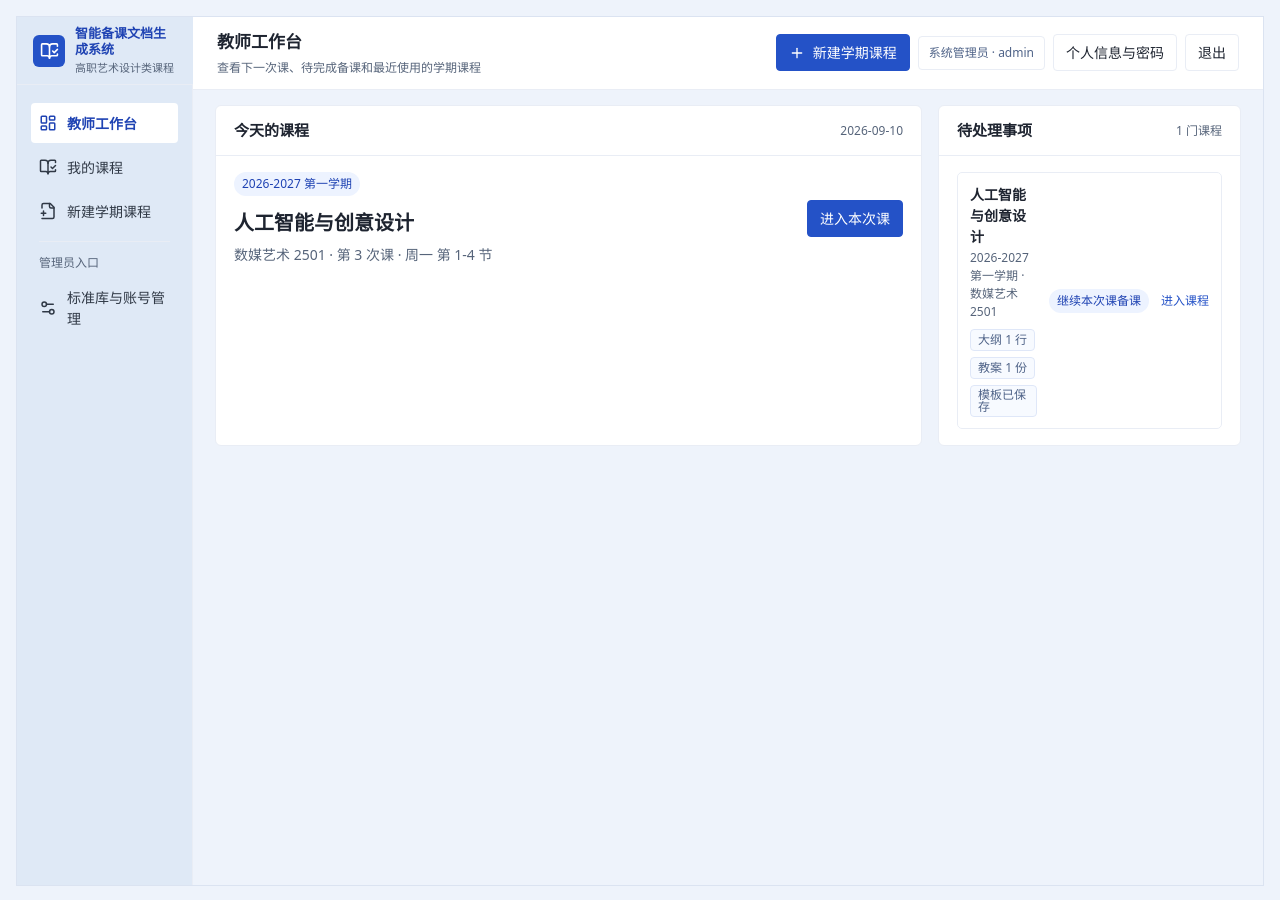
Test case: App › lets an admin deactivate a teacher without offering to deactivate themselves
The image size is (1280, 900).
Click the button "标准库与账号管理".
click(104, 308)  # box [31,278,178,338]
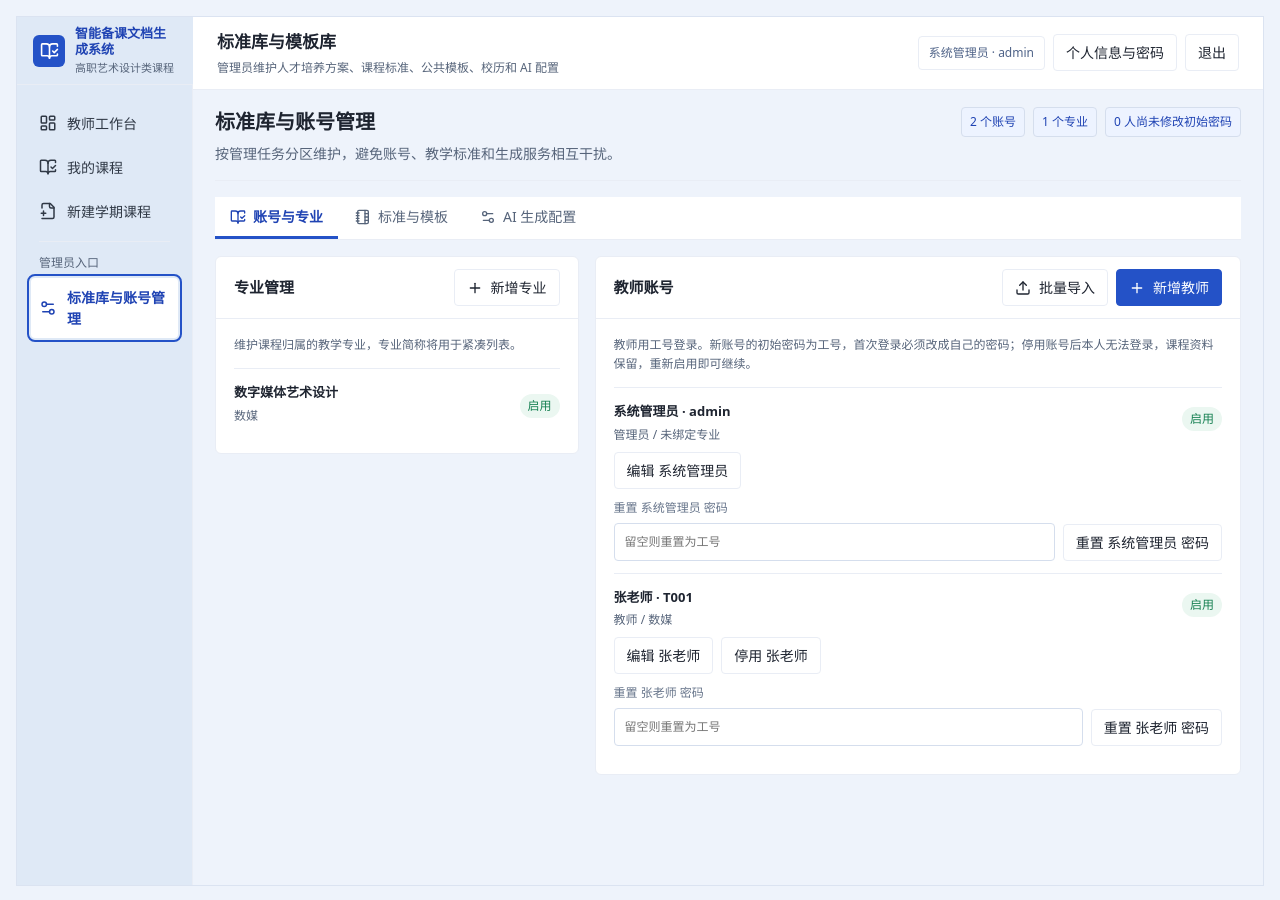
Expected: the button "停用 张老师" is shown
Click the button "停用 张老师".
click(771, 656)  # box [721,637,821,674]
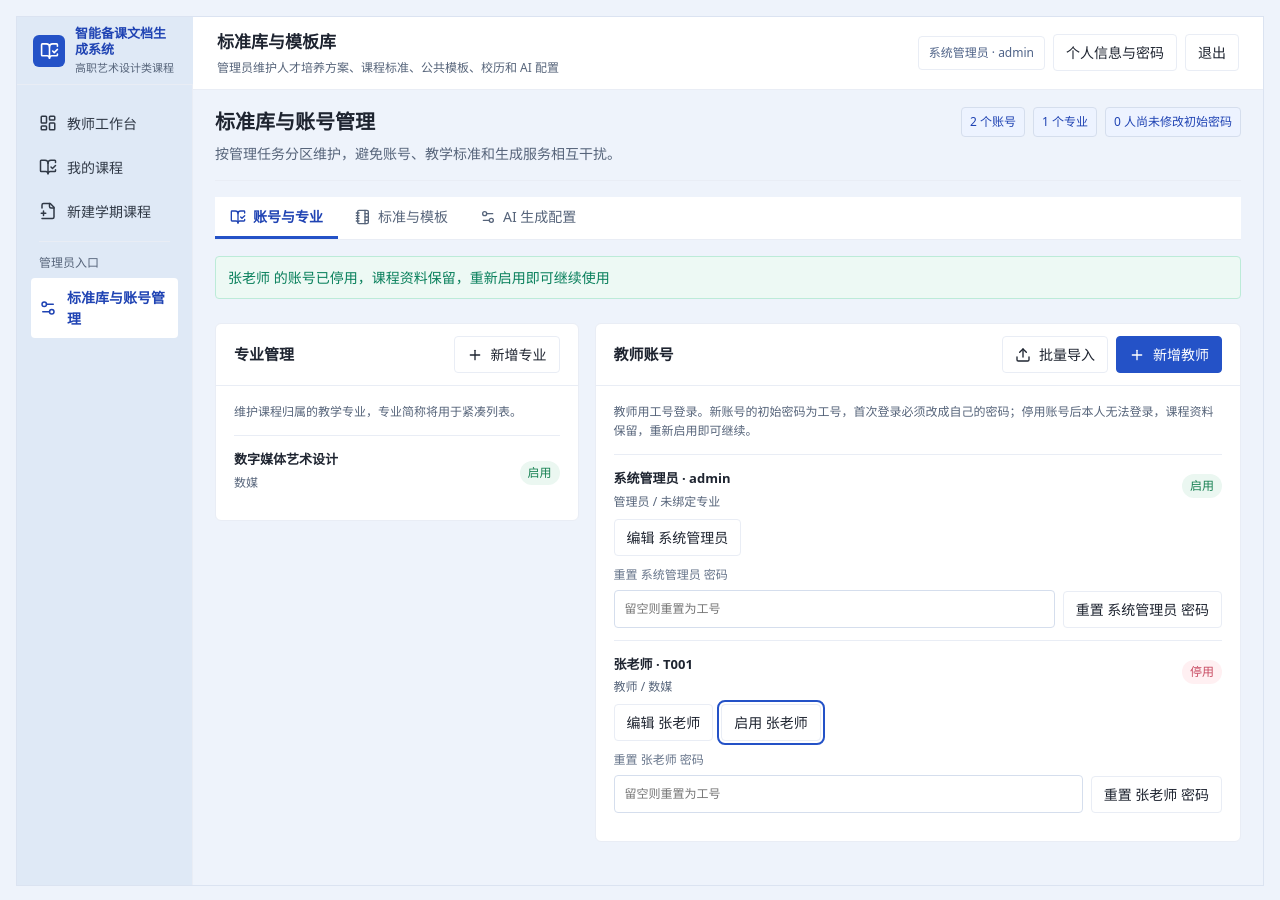
Expected: the message shows "张老师 的账号已停用", [228,268,610,287]
Expected: the button "启用 张老师" is shown, [721,704,821,741]
